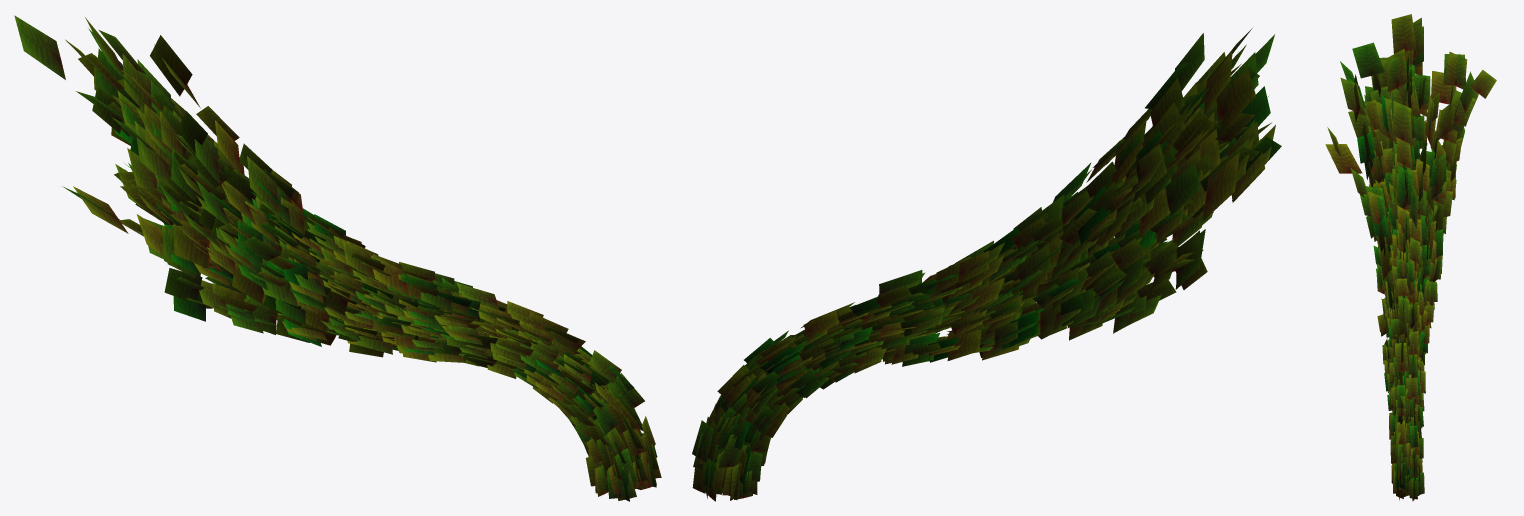
File: thuja 18.glb
The picture shows the model from 3 angles, left to right: view 1: azimuth 30°, elevation 25°; view 2: azimuth 150°, elevation 25°; view 3: azimuth 270°, elevation 25°; orthographic projection. The views are drawn at different scales.
Visible parts, largest first — view 1: thuja 18; view 2: thuja 18; view 3: thuja 18.
Boxes of the visible parts, box(x1,y1,x2,y2) form: thuja 18: box(14, 15, 661, 501); thuja 18: box(692, 28, 1281, 501); thuja 18: box(1325, 14, 1496, 501).
Size of the model in its own units: 6.59 by 6.71 by 3.33.
Materials: 1 (1 with a texture image).
